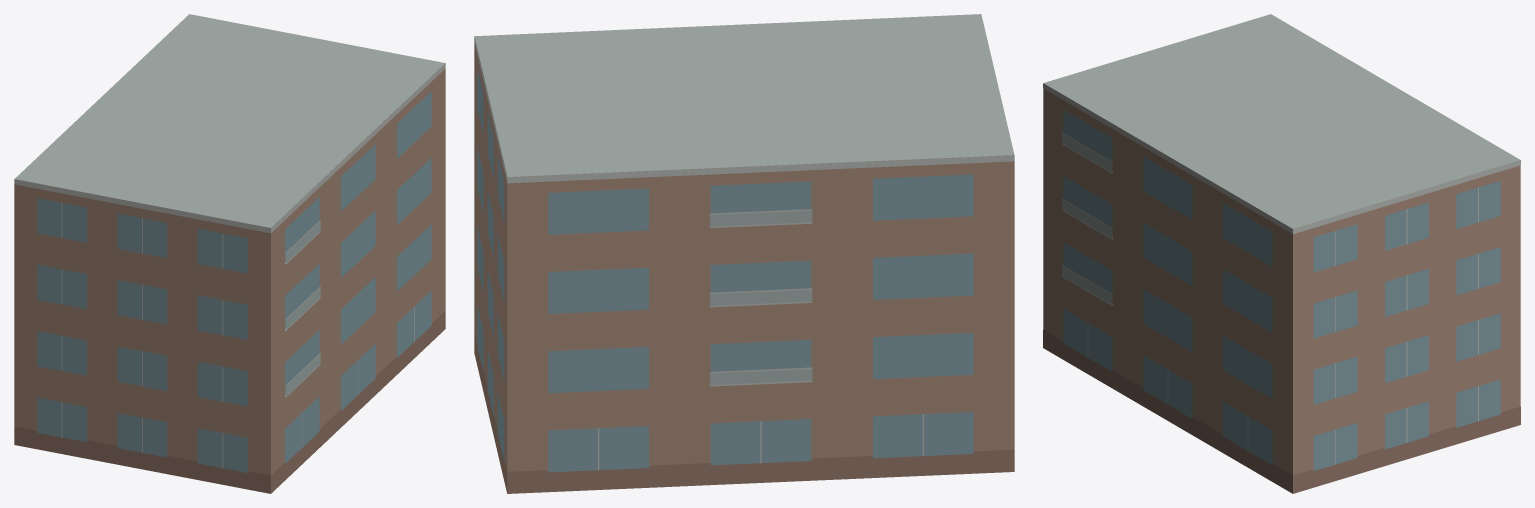
The model's file is survey-upis-32932272.glb.
3 renders of one model, left to right at view 1: azimuth 30°, elevation 25°; view 2: azimuth 150°, elevation 25°; view 3: azimuth 270°, elevation 25°, orthographic. The views are drawn at different scales.
Visible parts, largest first — view 1: survey-upis-32932272.tmp; view 2: survey-upis-32932272.tmp; view 3: survey-upis-32932272.tmp.
Boxes of the visible parts, bbox=[...] form: survey-upis-32932272.tmp: bbox=[14, 14, 445, 493]; survey-upis-32932272.tmp: bbox=[474, 14, 1014, 493]; survey-upis-32932272.tmp: bbox=[1043, 14, 1520, 493].
Size of the model in its own units: 21.24 by 12.2 by 19.94.
